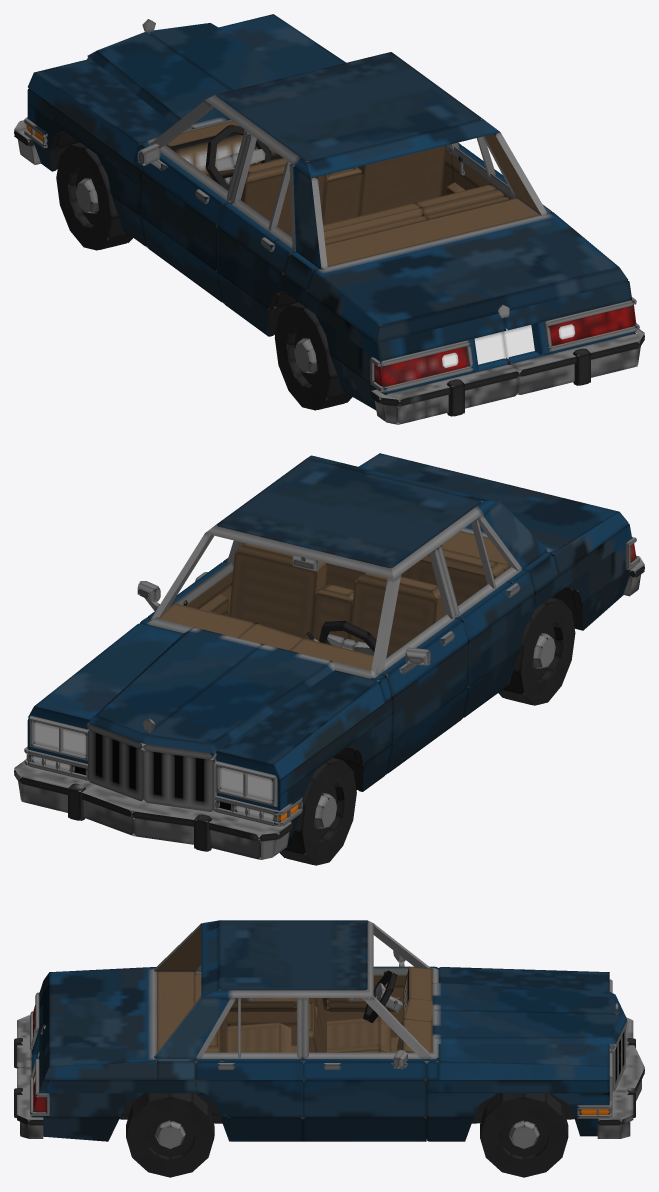
File: old-blockbench-car.obj
3 renders of one model, top to bottom at view 1: azimuth 30°, elevation 25°; view 2: azimuth 150°, elevation 25°; view 3: azimuth 270°, elevation 25°, orthographic. The views are drawn at different scales.
Parts seen in each view (by area): view 1: obj1; view 2: obj1; view 3: obj1.
Part boxes in pixels (left/top/right/bottom): obj1: left=14, top=14, right=644, bottom=424; obj1: left=14, top=453, right=644, bottom=865; obj1: left=14, top=920, right=644, bottom=1177.
Bounding box in the file's own units: 2.87 × 2.31 × 6.69.
Materials: 1 (1 with a texture image).
